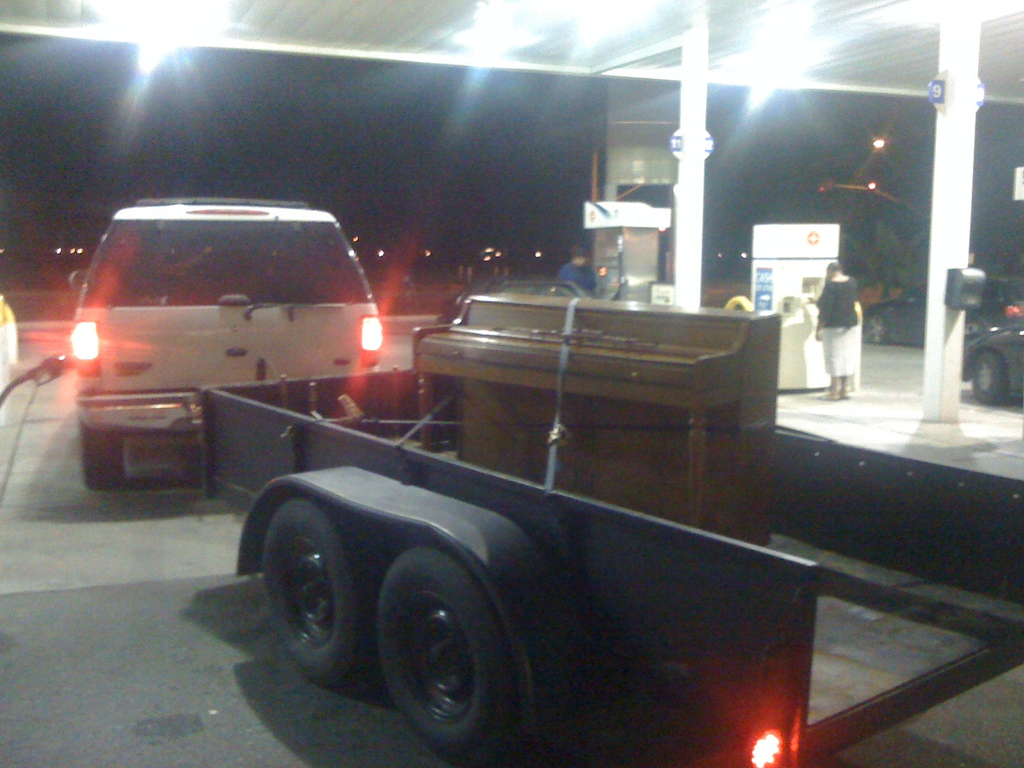car: (39, 144, 420, 490)
